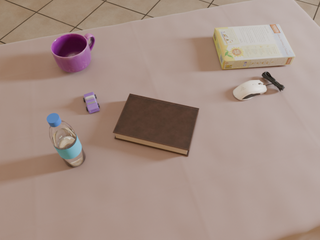book: (113, 94, 199, 156)
bottle: (47, 113, 85, 167)
box: (213, 24, 295, 69)
cup: (51, 33, 95, 72)
mouse: (233, 80, 267, 100)
toy_car: (83, 92, 100, 113)
